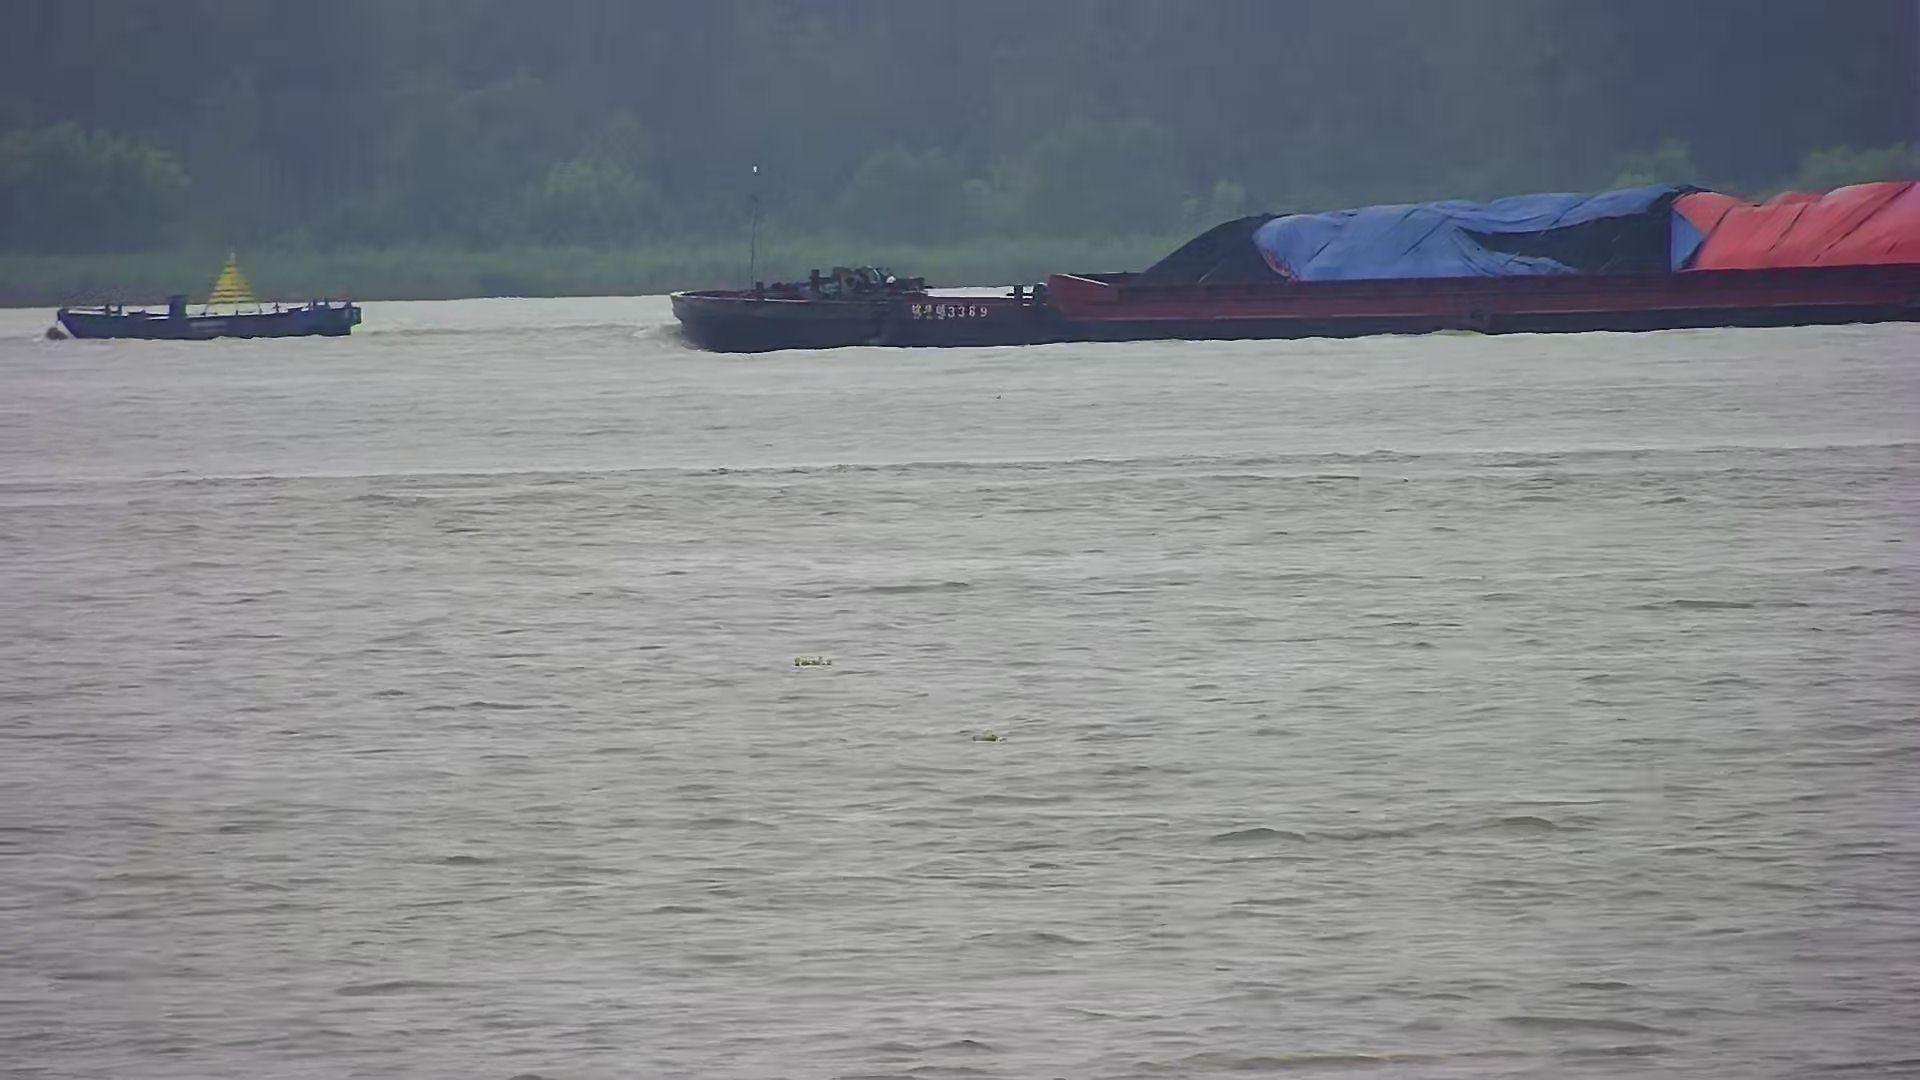boat: (57, 251, 364, 340)
ship: (667, 173, 1920, 353)
